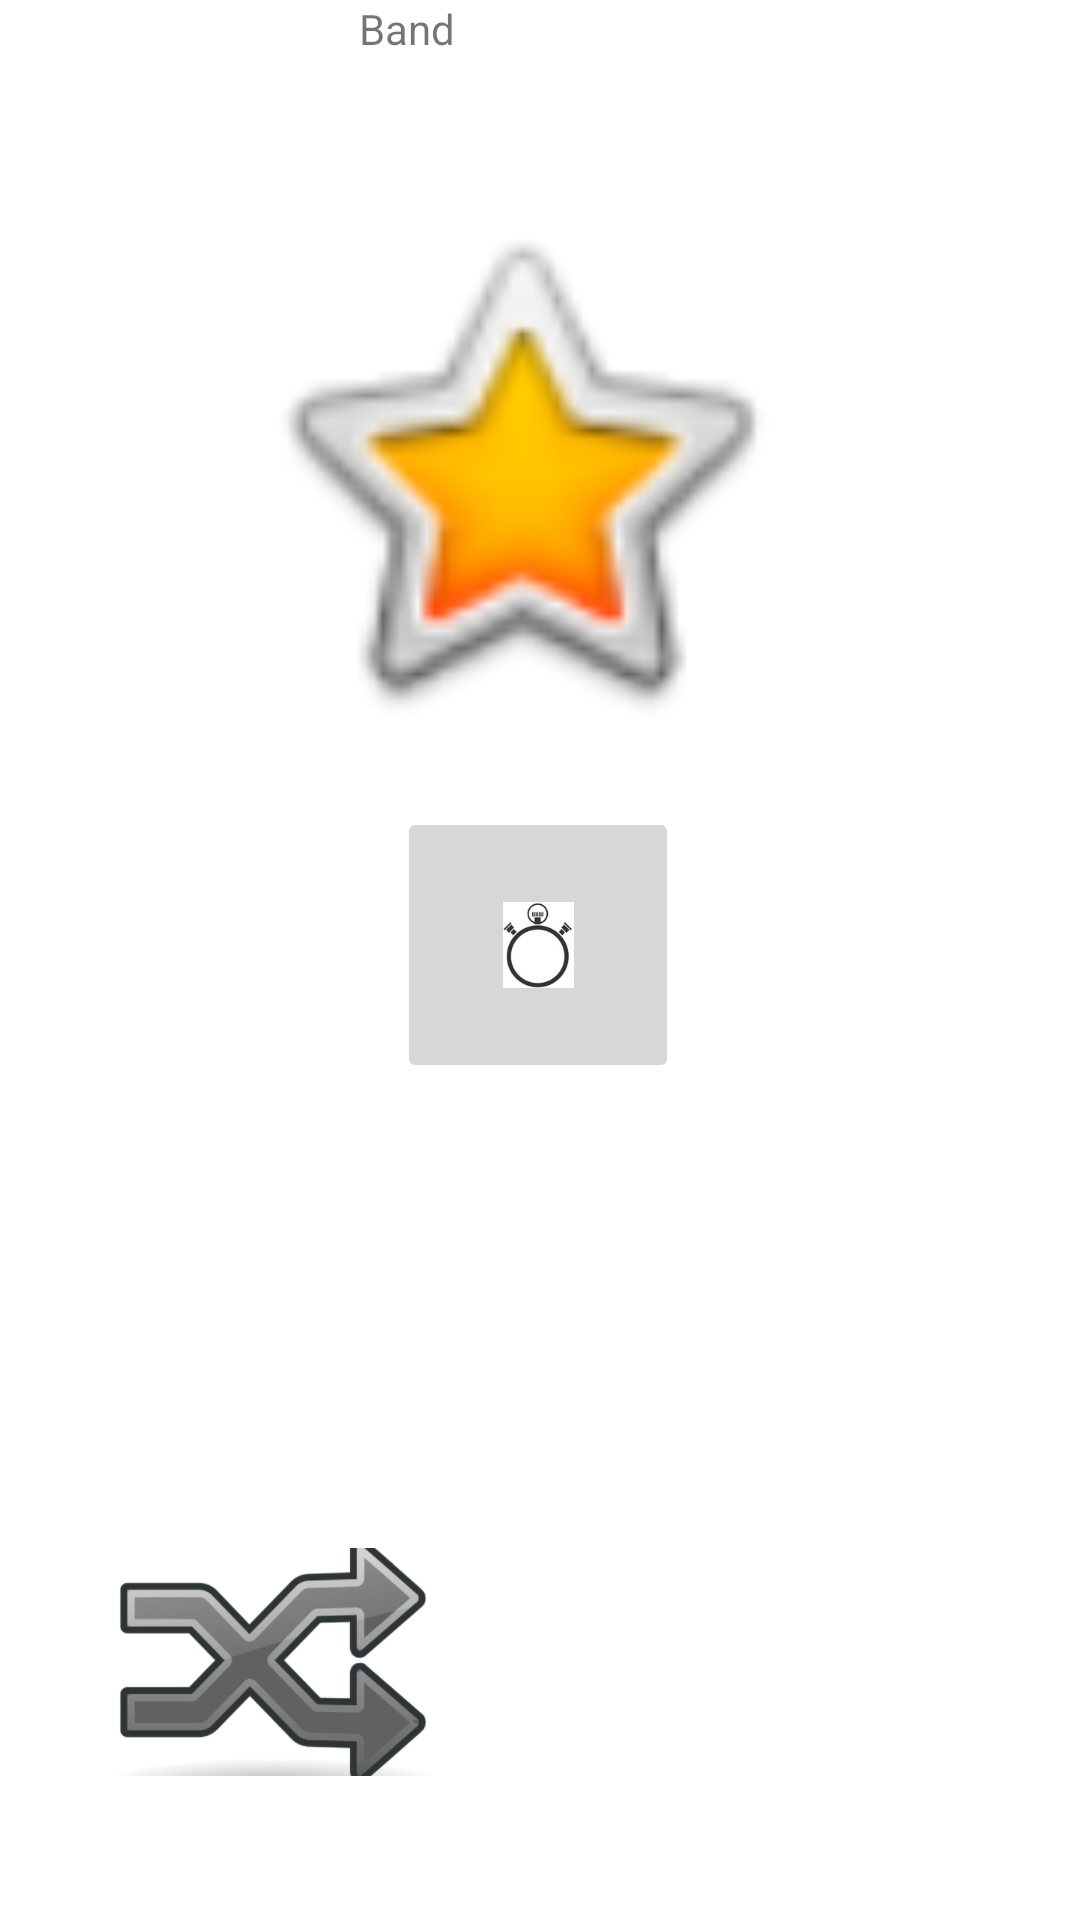

Where to tap for icons on this 1080x1920 app screen, as point (x, y):
shuffle: point (273, 1662)
